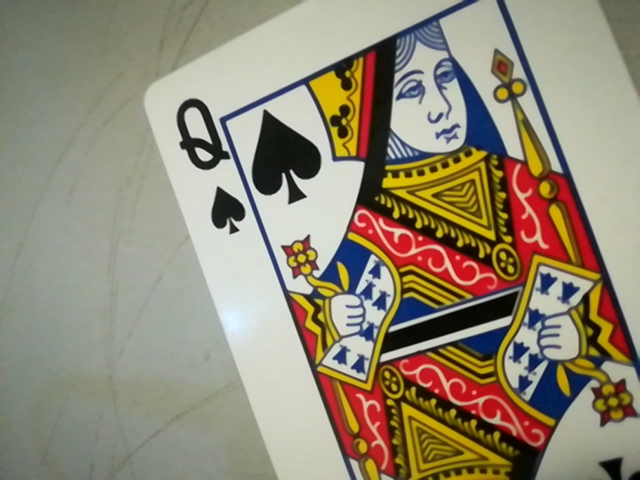ht q: (165, 86, 246, 242)
